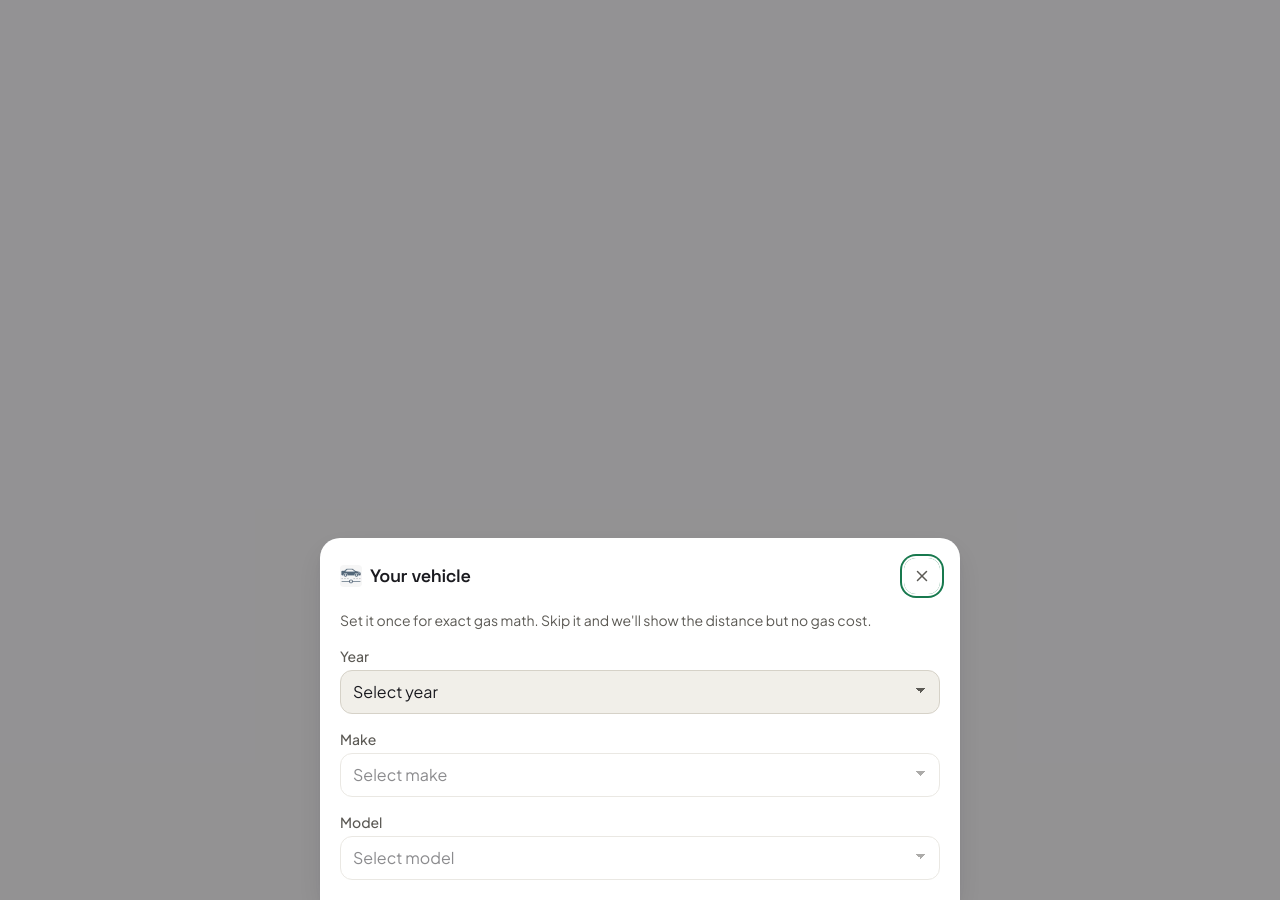
Scenario: VehicleSelector (bottom sheet) › keeps the sheet open without persisting when the MPG lookup fails
Select "2019" in the dropdown labelled "Year": (640, 692) [340,670,940,714]
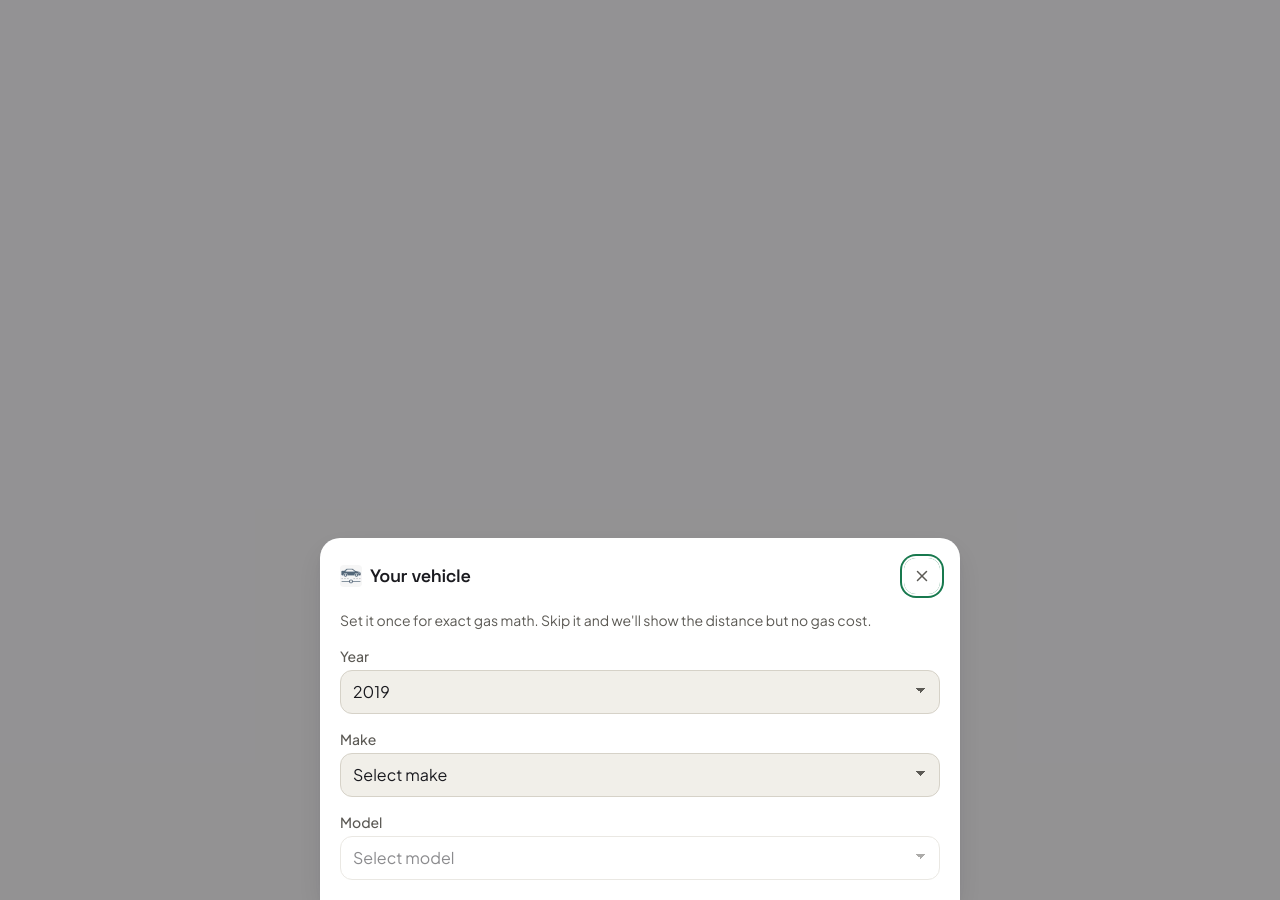
Select "Toyota" in the dropdown labelled "Make": (640, 775) [340,753,940,797]
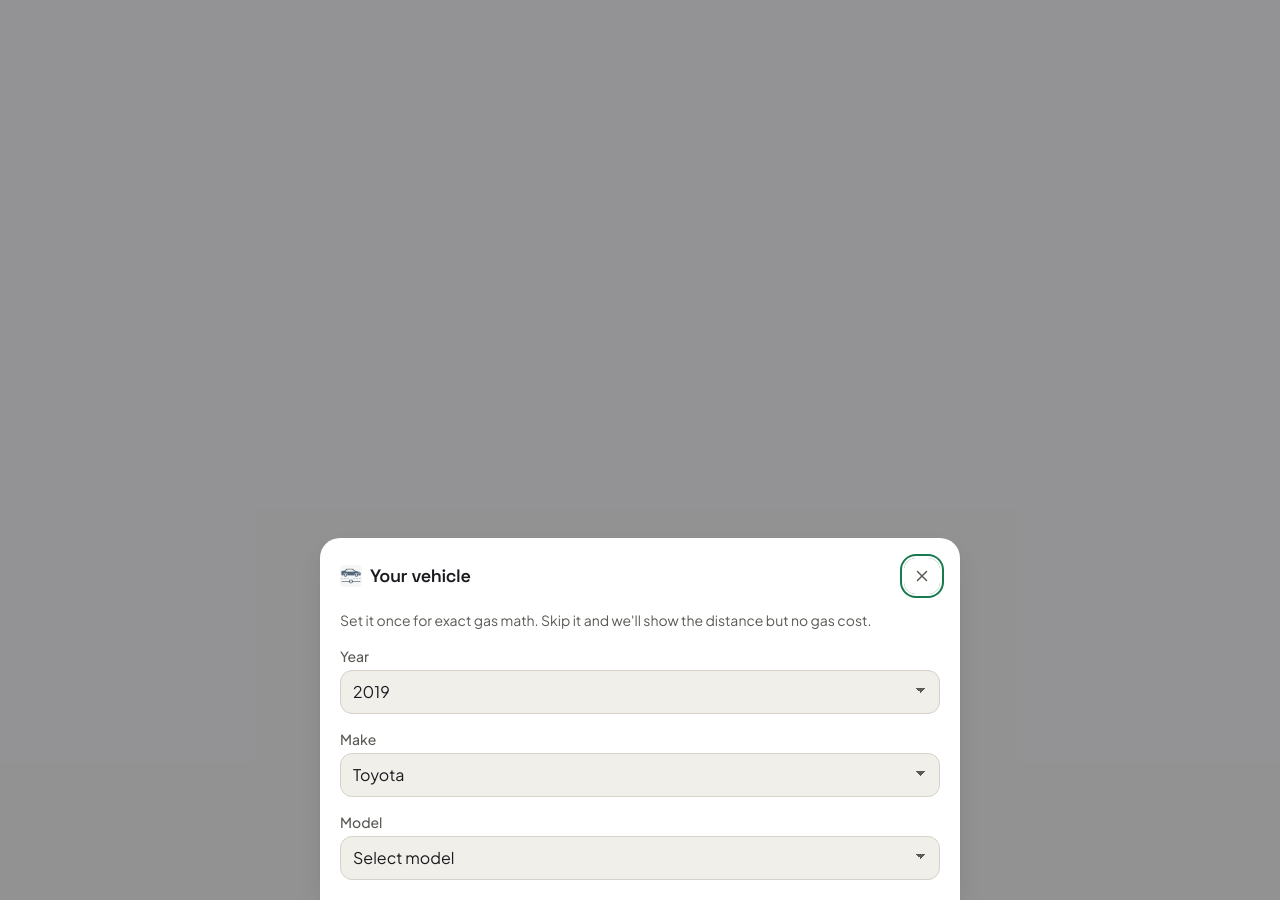
Select "Camry" in the dropdown labelled "Model": (640, 858) [340,836,940,880]
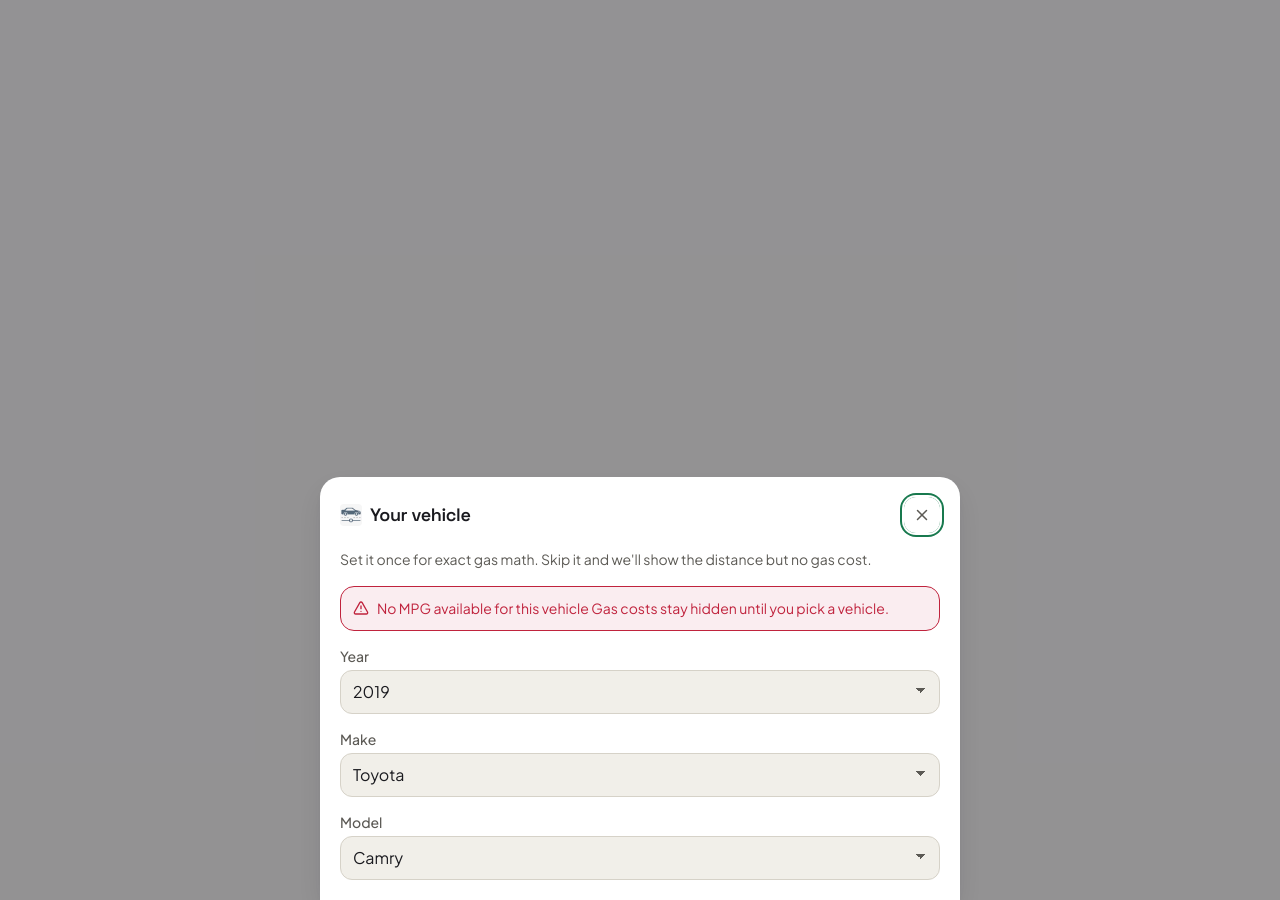
Expected: the dialog is shown, [320,477,960,899]
Now the message is shown, box [340,586,940,631]
